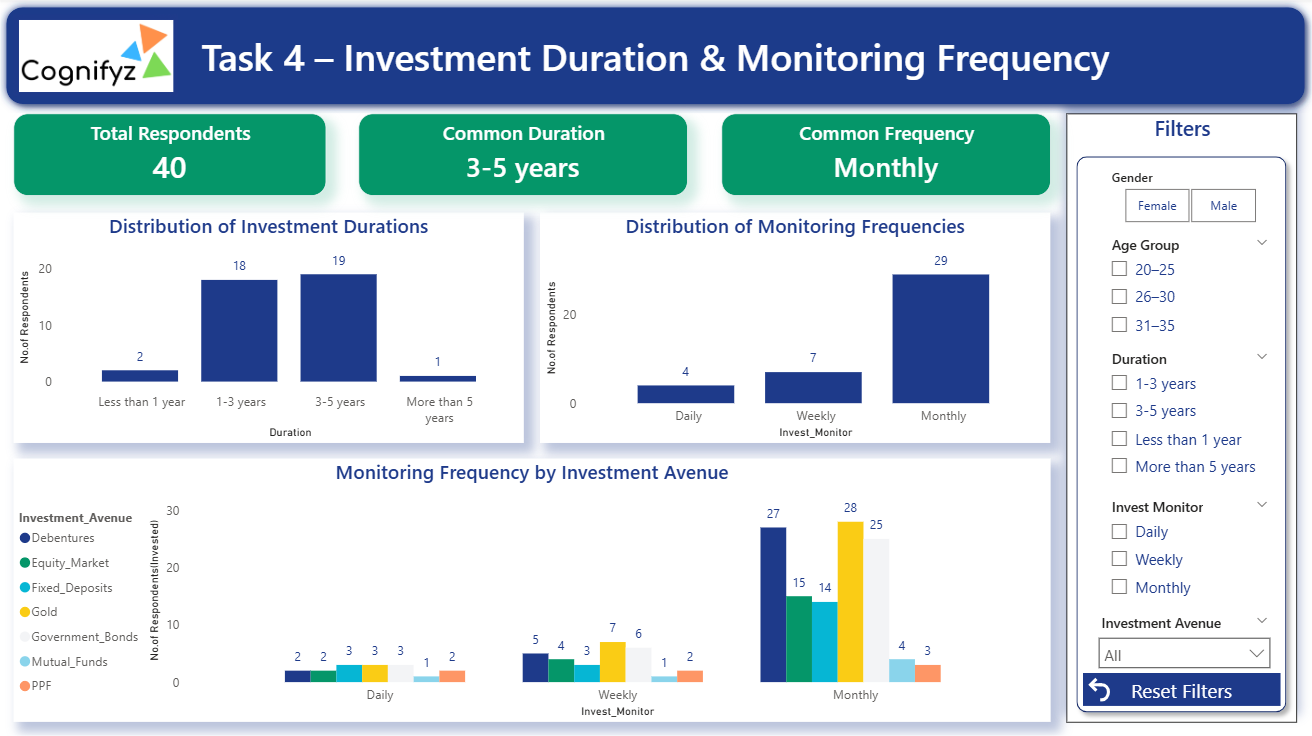

This screenshot's page, from the dashboard's own definition file:
{"tool":"powerbi","page":{"name":"Task 4","canvas":[1280,720],"ordinal":3},"visuals":[{"type":"shape","title":"Filters","box":[1040,112,224,592],"z":0,"group":"g1"},{"type":"clusteredColumnChart","title":"Distribution of Investment Durations","fields":{"Y":["Survey.Respondents Count"],"Category":["DurationMap.Duration"]},"box":[16,208,496,224],"z":0},{"type":"clusteredColumnChart","title":"Distribution of Monitoring Frequencies","fields":{"Category":["MonitorMap.Invest_Monitor"],"Y":["Survey.Respondents Count"]},"box":[528,208,496,224],"z":1000},{"type":"clusteredColumnChart","title":"Monitoring Frequency by Investment Avenue","fields":{"Category":["MonitorMap.Invest_Monitor"],"Y":["Survey.Respondent Count (Invested)"],"Series":["Survey.Investment_Avenue"]},"box":[16,448,1008,256],"z":2000},{"type":"group","id":"g1","title":"Group 1","box":[1040,112,224,592],"z":3000},{"type":"slicer","title":"Age ","fields":{"Values":["Survey.Duration"]},"box":[1056,336,192,144],"z":4000},{"type":"slicer","title":"Age ","fields":{"Values":["MonitorMap.Invest_Monitor"]},"box":[1056,480,192,112],"z":5000},{"type":"slicer","title":"Age ","fields":{"Values":["Survey.Investment_Avenue"]},"box":[1056,592,192,64],"z":6000},{"type":"slicer","title":"Age ","fields":{"Values":["Survey.AgeGroup"]},"box":[1056,224,192,112],"z":7000},{"type":"slicer","title":"Age ","fields":{"Values":["Survey.Gender"]},"box":[1056,160,192,64],"z":8000},{"type":"shape","title":"Task 4 – Investment Duration & Monitoring Frequency","box":[0,0,1280,112],"z":9000},{"type":"card","title":"Total Respondents","fields":{"Values":["Survey.Respondents Count"]},"box":[16,112,304,80],"z":10000},{"type":"card","title":"Common Duration","fields":{"Values":["Min(Survey.Most Common Duration1)"]},"box":[352,112,320,80],"z":11000},{"type":"card","title":"Common Frequency","fields":{"Values":["Survey.Most Common Frequency"]},"box":[704,112,320,80],"z":12000},{"type":"image","box":[16,16,160,80],"z":14000},{"type":"actionButton","box":[1056,656,192,32],"z":14001}]}

Visuals, with their boxes in screenshot pixels (x1, y1, x2, y2), scaled from the page's 1280x720 canvas onto the 1312x736 screenshot:
"Filters" shape: bbox=(1066, 114, 1296, 720)
"Distribution of Investment Durations" clusteredColumnChart: bbox=(16, 213, 525, 442)
"Distribution of Monitoring Frequencies" clusteredColumnChart: bbox=(541, 213, 1050, 442)
"Monitoring Frequency by Investment Avenue" clusteredColumnChart: bbox=(16, 458, 1050, 720)
"Group 1" group: bbox=(1066, 114, 1296, 720)
"Age " slicer: bbox=(1082, 343, 1279, 491)
"Age " slicer: bbox=(1082, 491, 1279, 605)
"Age " slicer: bbox=(1082, 605, 1279, 671)
"Age " slicer: bbox=(1082, 229, 1279, 343)
"Age " slicer: bbox=(1082, 164, 1279, 229)
"Task 4 – Investment Duration & Monitoring Frequency" shape: bbox=(0, 0, 1311, 114)
"Total Respondents" card: bbox=(16, 114, 328, 196)
"Common Duration" card: bbox=(361, 114, 689, 196)
"Common Frequency" card: bbox=(722, 114, 1050, 196)
image: bbox=(16, 16, 180, 98)
actionButton: bbox=(1082, 671, 1279, 703)
